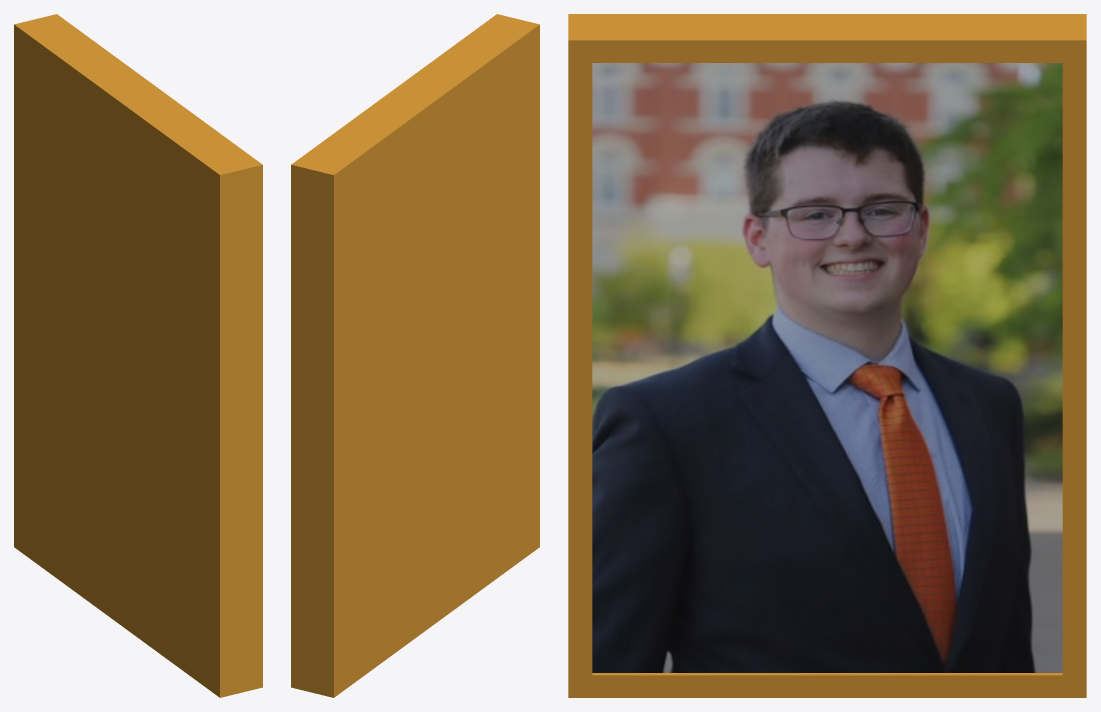
File: Quincy-Picture.glb
The picture shows the model from 3 angles, left to right: view 1: azimuth 30°, elevation 25°; view 2: azimuth 150°, elevation 25°; view 3: azimuth 270°, elevation 25°; orthographic projection. The views are drawn at different scales.
Parts seen in each view (by area): view 1: Main; view 2: Main; view 3: picture, Main.
Boxes of the visible parts, x1=… form: Main: x1=14, y1=14, x2=262, y2=697; Main: x1=291, y1=14, x2=539, y2=697; picture: x1=592, y1=63, x2=1062, y2=672; Main: x1=568, y1=14, x2=1086, y2=697.
Bounding box in the file's own units: 0.3 × 3.5 × 2.5.
3 materials, 3 textured.
